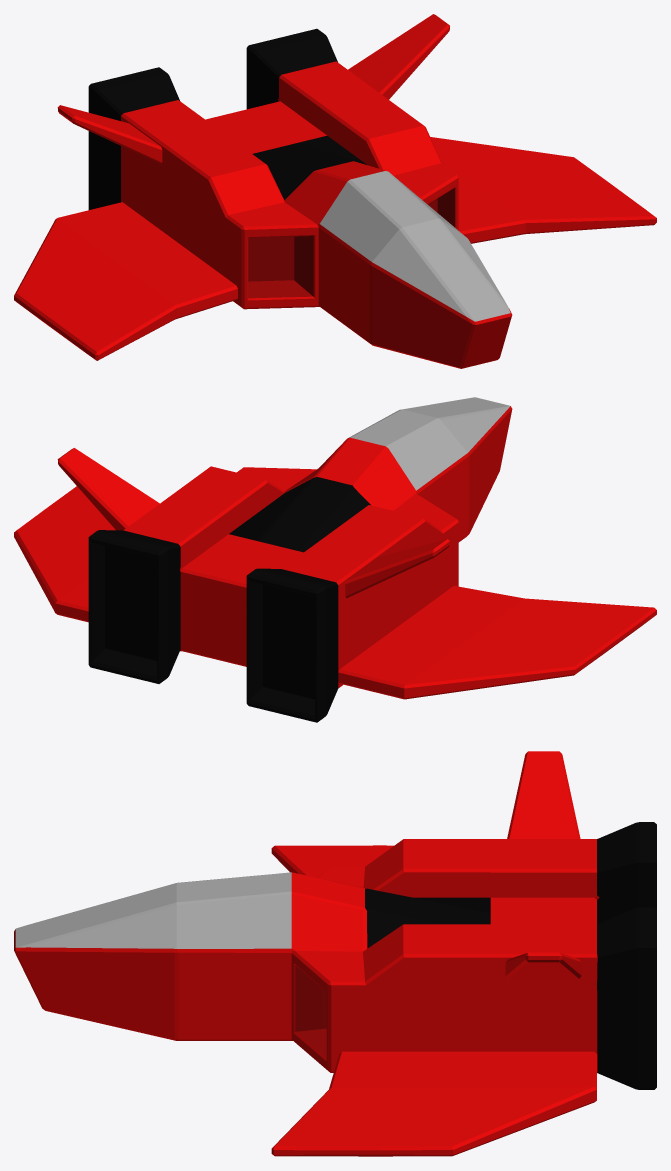
File: player.fbx
3 renders of one model, top to bottom at view 1: azimuth 30°, elevation 25°; view 2: azimuth 150°, elevation 25°; view 3: azimuth 270°, elevation 25°, orthographic. The views are drawn at different scales.
Parts seen in each view (by area): view 1: pCube1; view 2: pCube1; view 3: pCube1.
Part boxes in pixels (left/top/right/bottom): pCube1: left=14, top=14, right=656, bottom=368; pCube1: left=14, top=397, right=656, bottom=722; pCube1: left=14, top=751, right=656, bottom=1156.
Size of the model in its own units: 0.0572 by 0.0513 by 0.0156.
